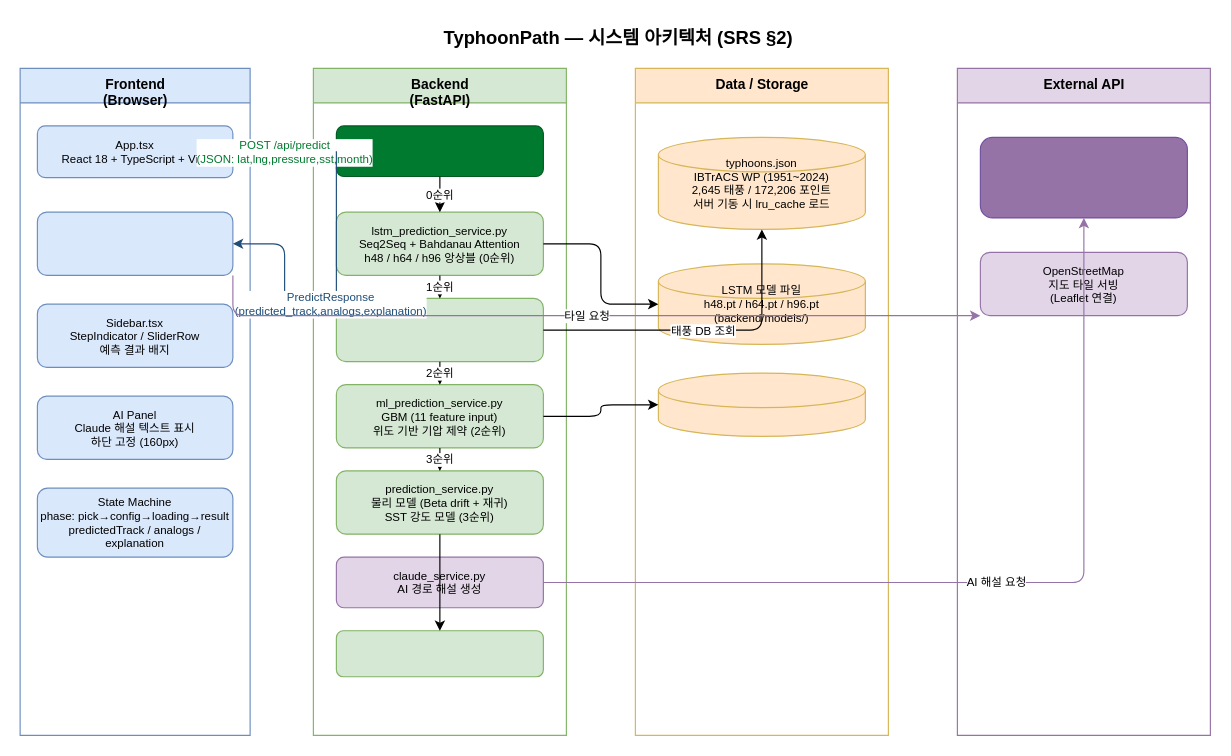
This 1231x756 diagram has some shape labels left out. The shapes that lost their labels are listed below. From the top down, each one's box as (x1, y1, x2, y2) in pixels, then its label:
(335, 125, 543, 177): POST /api/predict predict.py router
(979, 136, 1187, 218): Anthropic API claude-haiku-4-5-20251001 경로 설명 생성 (<5s) 200자 한국어 출력
(36, 211, 233, 275): TyphoonMap.tsx react-leaflet / OSM 타일 경로 애니메이션 (150ms/step)
(335, 297, 543, 362): blend_service.py Analog Blending 과거 태풍 경로 합성 (1순위)
(657, 372, 865, 436): GBM 모델 파일 (scikit-learn)
(335, 630, 543, 677): _is_plausible() 검증 비정상 경로 폴백 처리
